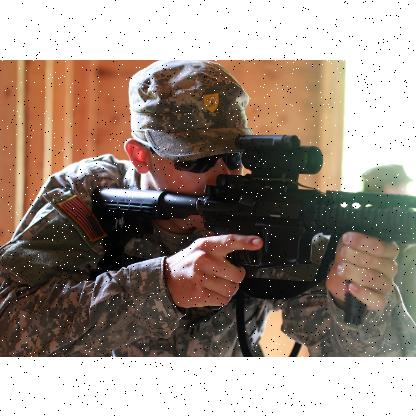gun: (91, 134, 414, 318)
